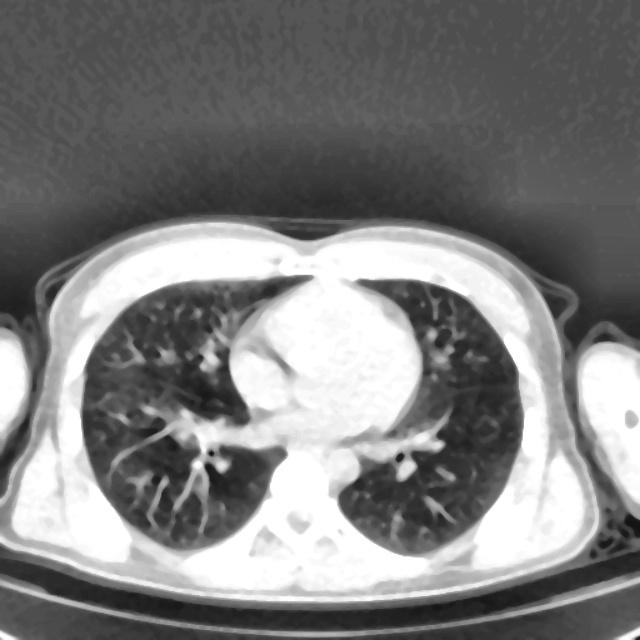covid: (0, 215, 638, 607)
